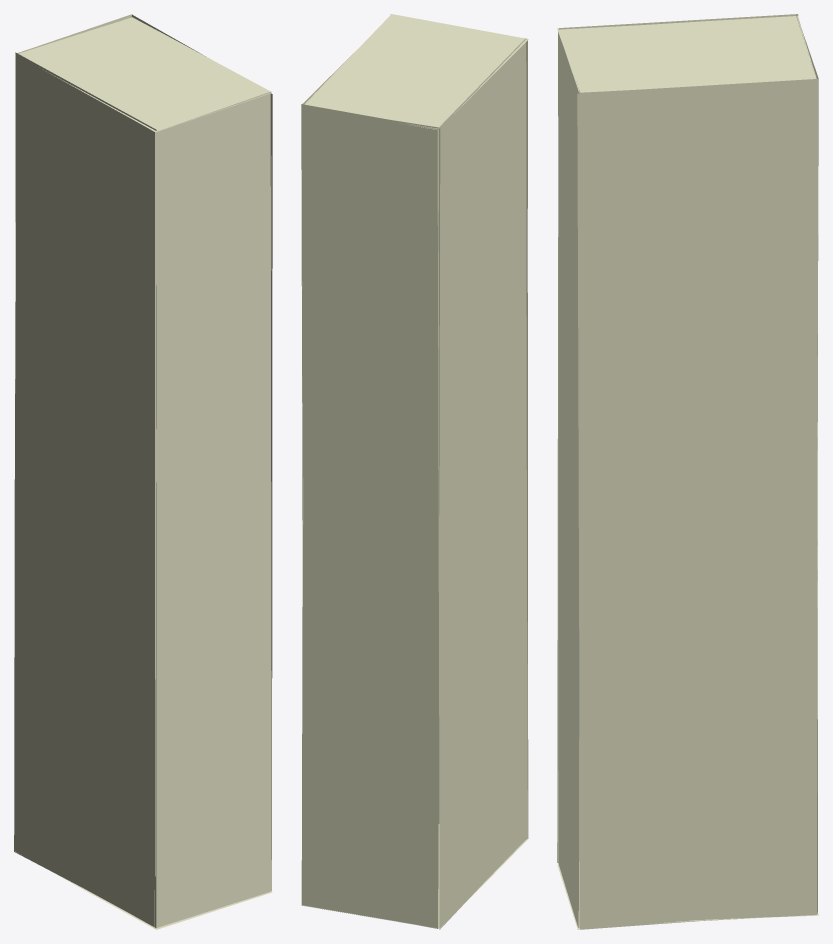
The model's file is original-16.obj.
The picture shows the model from 3 angles, left to right: view 1: azimuth 30°, elevation 25°; view 2: azimuth 150°, elevation 25°; view 3: azimuth 270°, elevation 25°; orthographic projection. The views are drawn at different scales.
Parts seen in each view (by area): view 1: #ID98; view 2: #ID98; view 3: #ID98.
Boxes of the visible parts, x1,y1,x2,y2 form: #ID98: (14, 14, 272, 929); #ID98: (301, 14, 528, 929); #ID98: (557, 14, 818, 929).
Size of the model in its own units: 0.0109 by 0.0539 by 0.0153.
